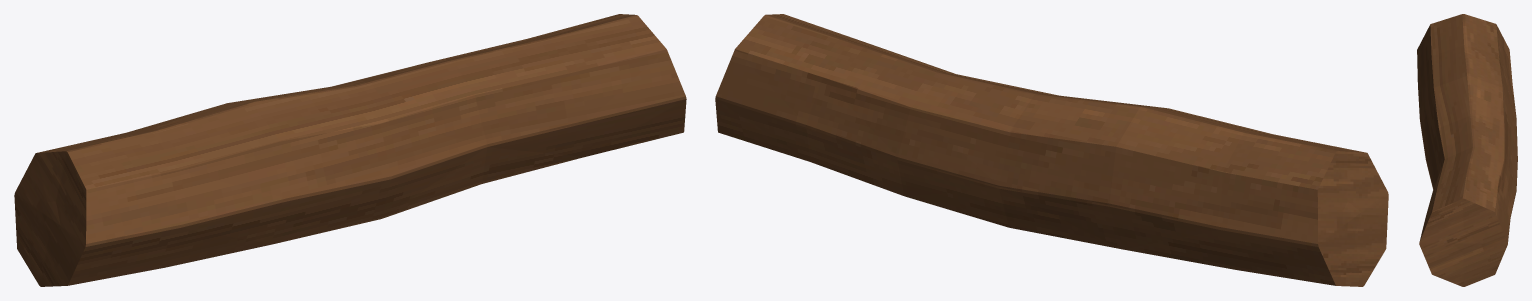
Rendered from Tronco.fbx.
The picture shows the model from 3 angles, left to right: view 1: azimuth 30°, elevation 25°; view 2: azimuth 150°, elevation 25°; view 3: azimuth 270°, elevation 25°; orthographic projection. The views are drawn at different scales.
Parts seen in each view (by area): view 1: Plane; view 2: Plane; view 3: Plane.
Boxes of the visible parts, x1,y1,x2,y2 form: Plane: (14, 14, 686, 286); Plane: (715, 14, 1388, 286); Plane: (1417, 14, 1517, 286).
Size of the model in its own units: 113 by 25.09 by 24.11.
